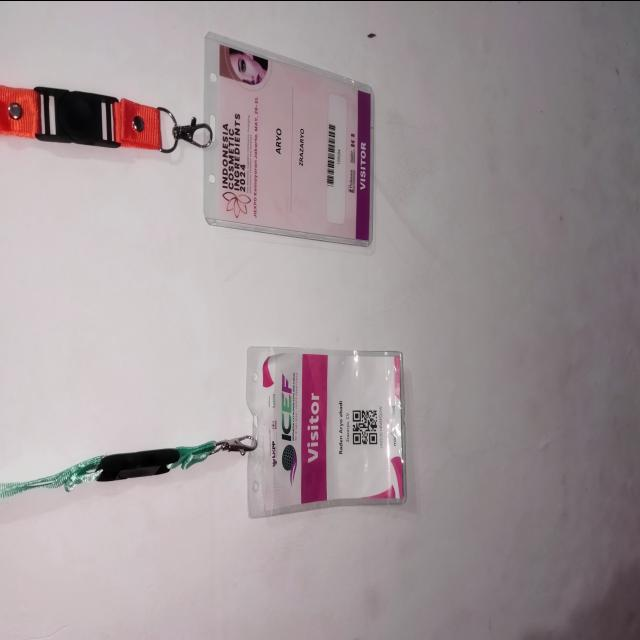ID_card: (202, 32, 374, 250), (244, 345, 406, 519)
